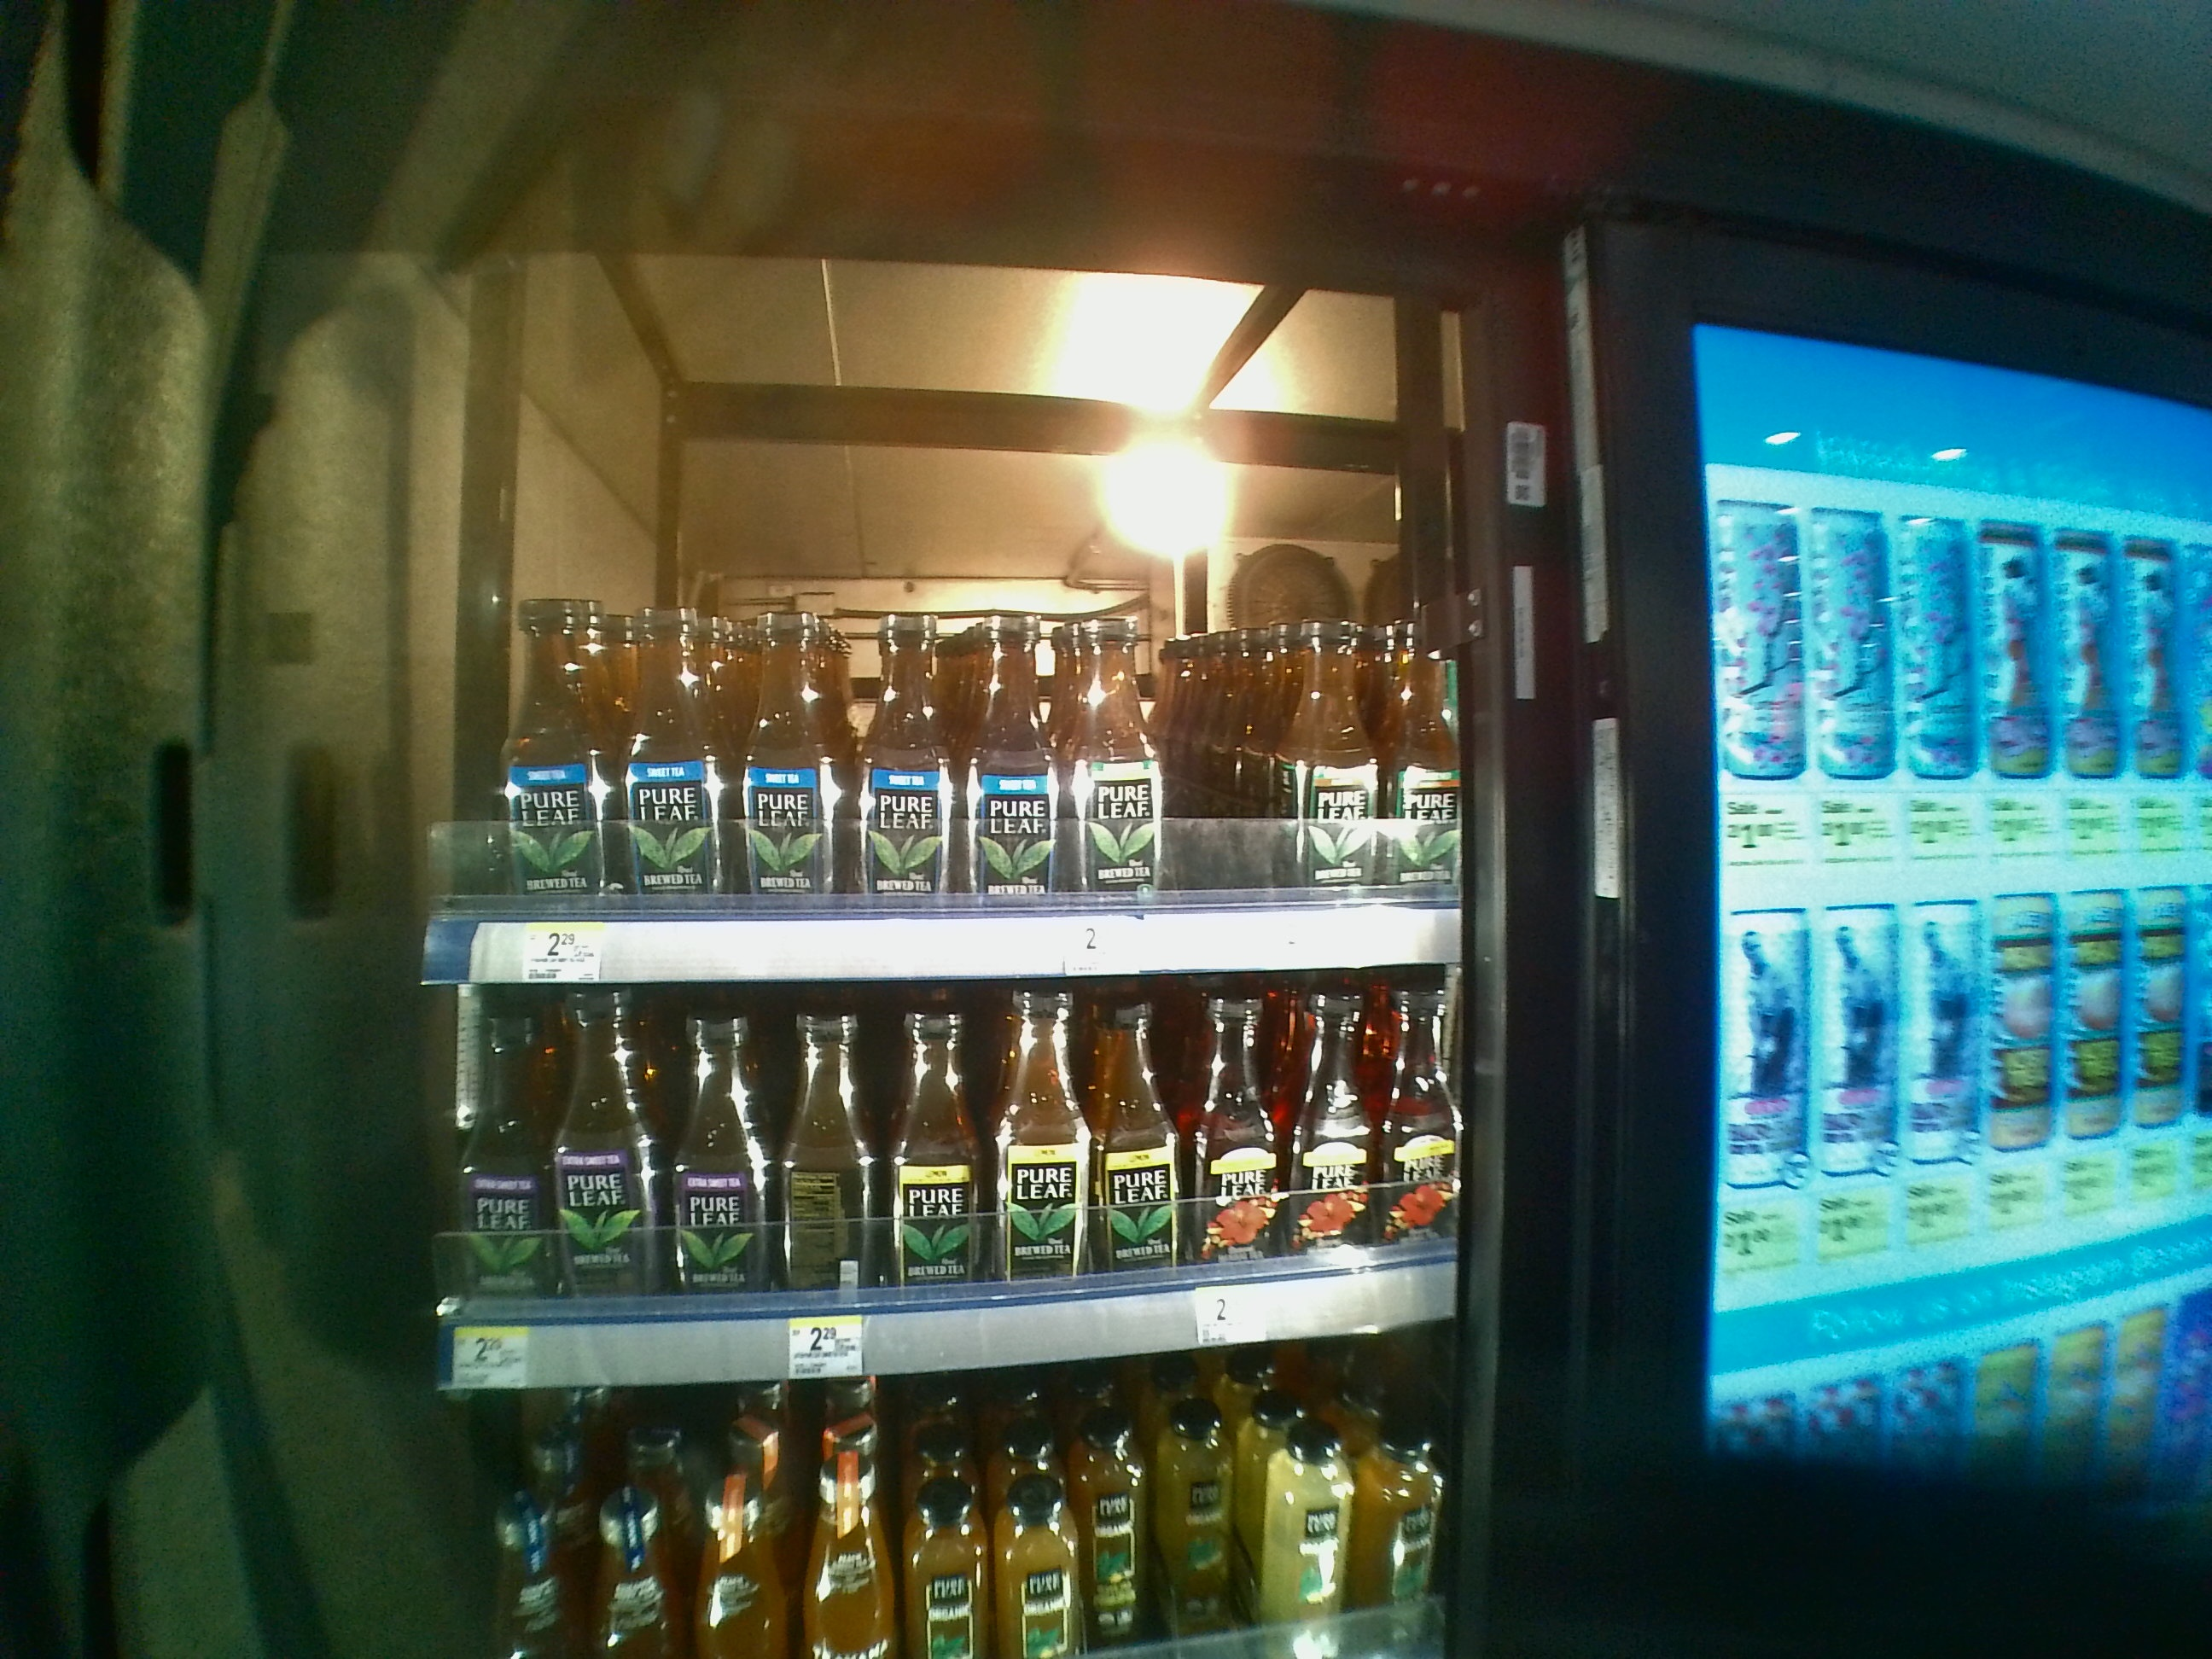shelf: (421, 498, 1458, 983), (428, 997, 1463, 1401)
